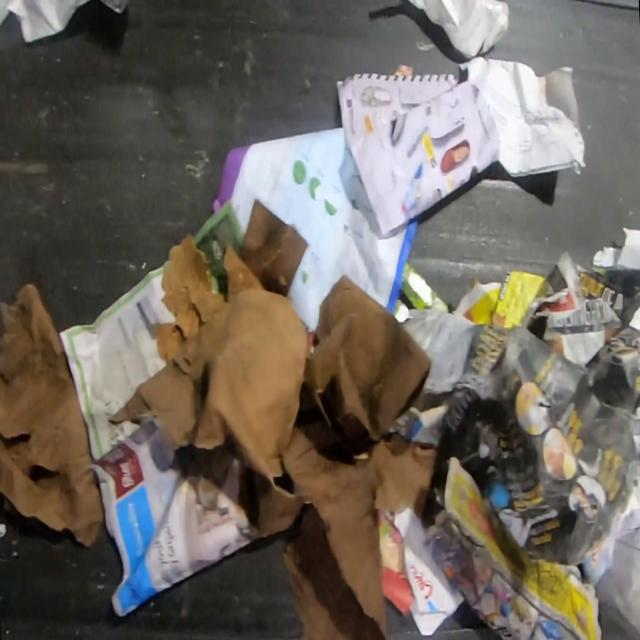cardboard: (112, 196, 440, 640), (0, 282, 107, 550)
